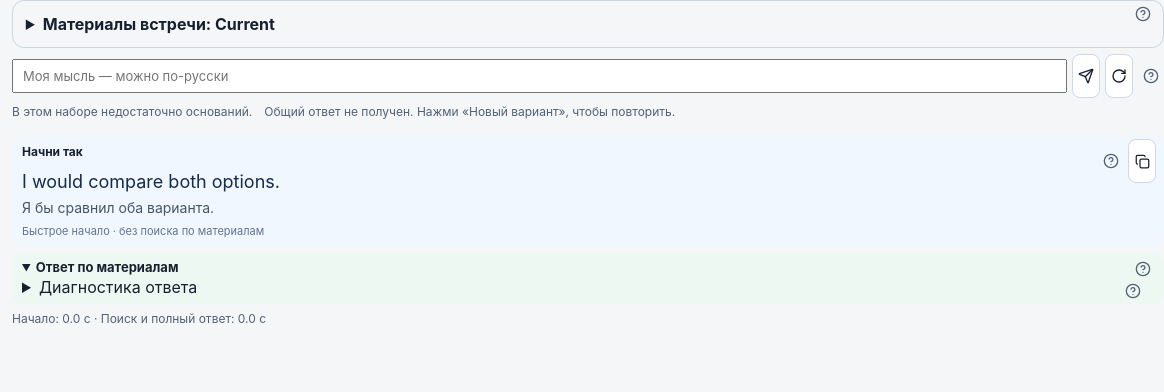
Scenario: manual meeting assistance › shows and saves why the full answer fell back after an opening
This screenshot has width=1164, height=392.
Expected: the heading "Ответ по материалам" is shown, [36,259,178,275]
Click the heading "Диагностика ответа": {"x": 118, "y": 287} [39,277,197,297]
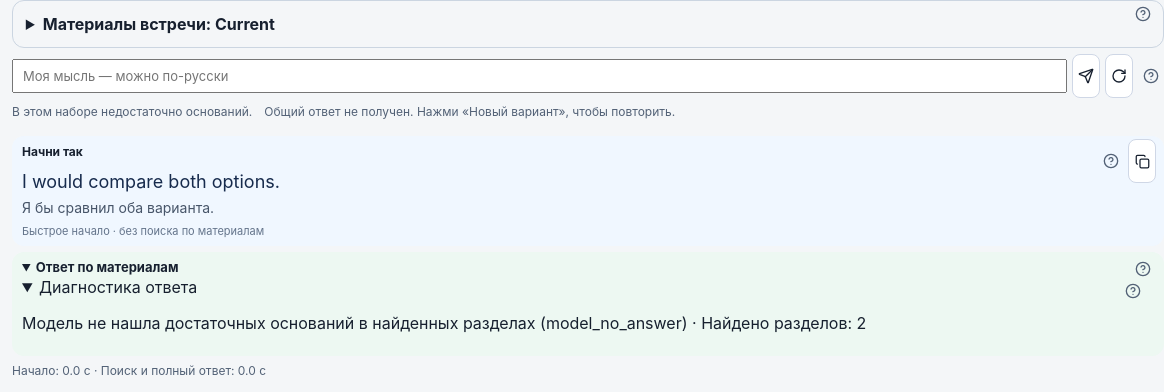
Now the text "model_no_answer" shows "Найдено разделов: 2", box [22,313,866,333]
